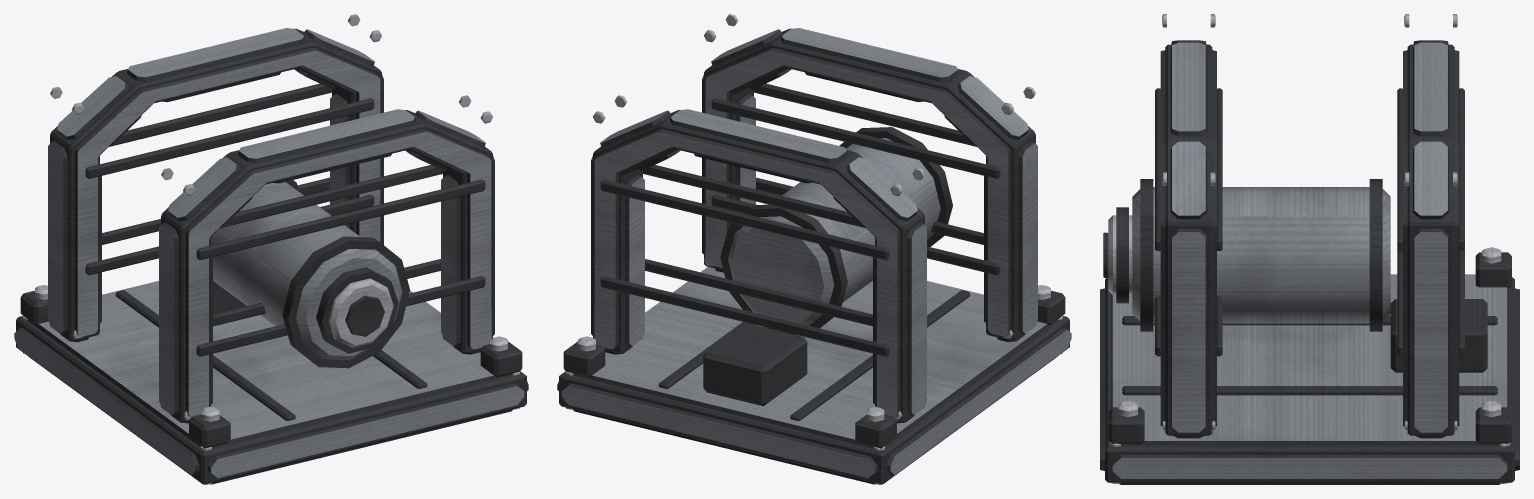
File: R4X_WeaponDurabilityBooster.glb
3 views of the same model, side by side, from view 1: azimuth 30°, elevation 25°; view 2: azimuth 150°, elevation 25°; view 3: azimuth 270°, elevation 25° (orthographic). The views are drawn at different scales.
Parts seen in each view (by area): view 1: R4X_WeaponDurabilityBooster_Body; view 2: R4X_WeaponDurabilityBooster_Body; view 3: R4X_WeaponDurabilityBooster_Body.
Part boxes in pixels (left/top/right/bottom): R4X_WeaponDurabilityBooster_Body: left=14, top=14, right=528, bottom=484; R4X_WeaponDurabilityBooster_Body: left=557, top=14, right=1071, bottom=484; R4X_WeaponDurabilityBooster_Body: left=1100, top=14, right=1519, bottom=484.
Size of the model in its own units: 0.52 by 0.43 by 0.52.
Materials: 4 (3 with a texture image).
